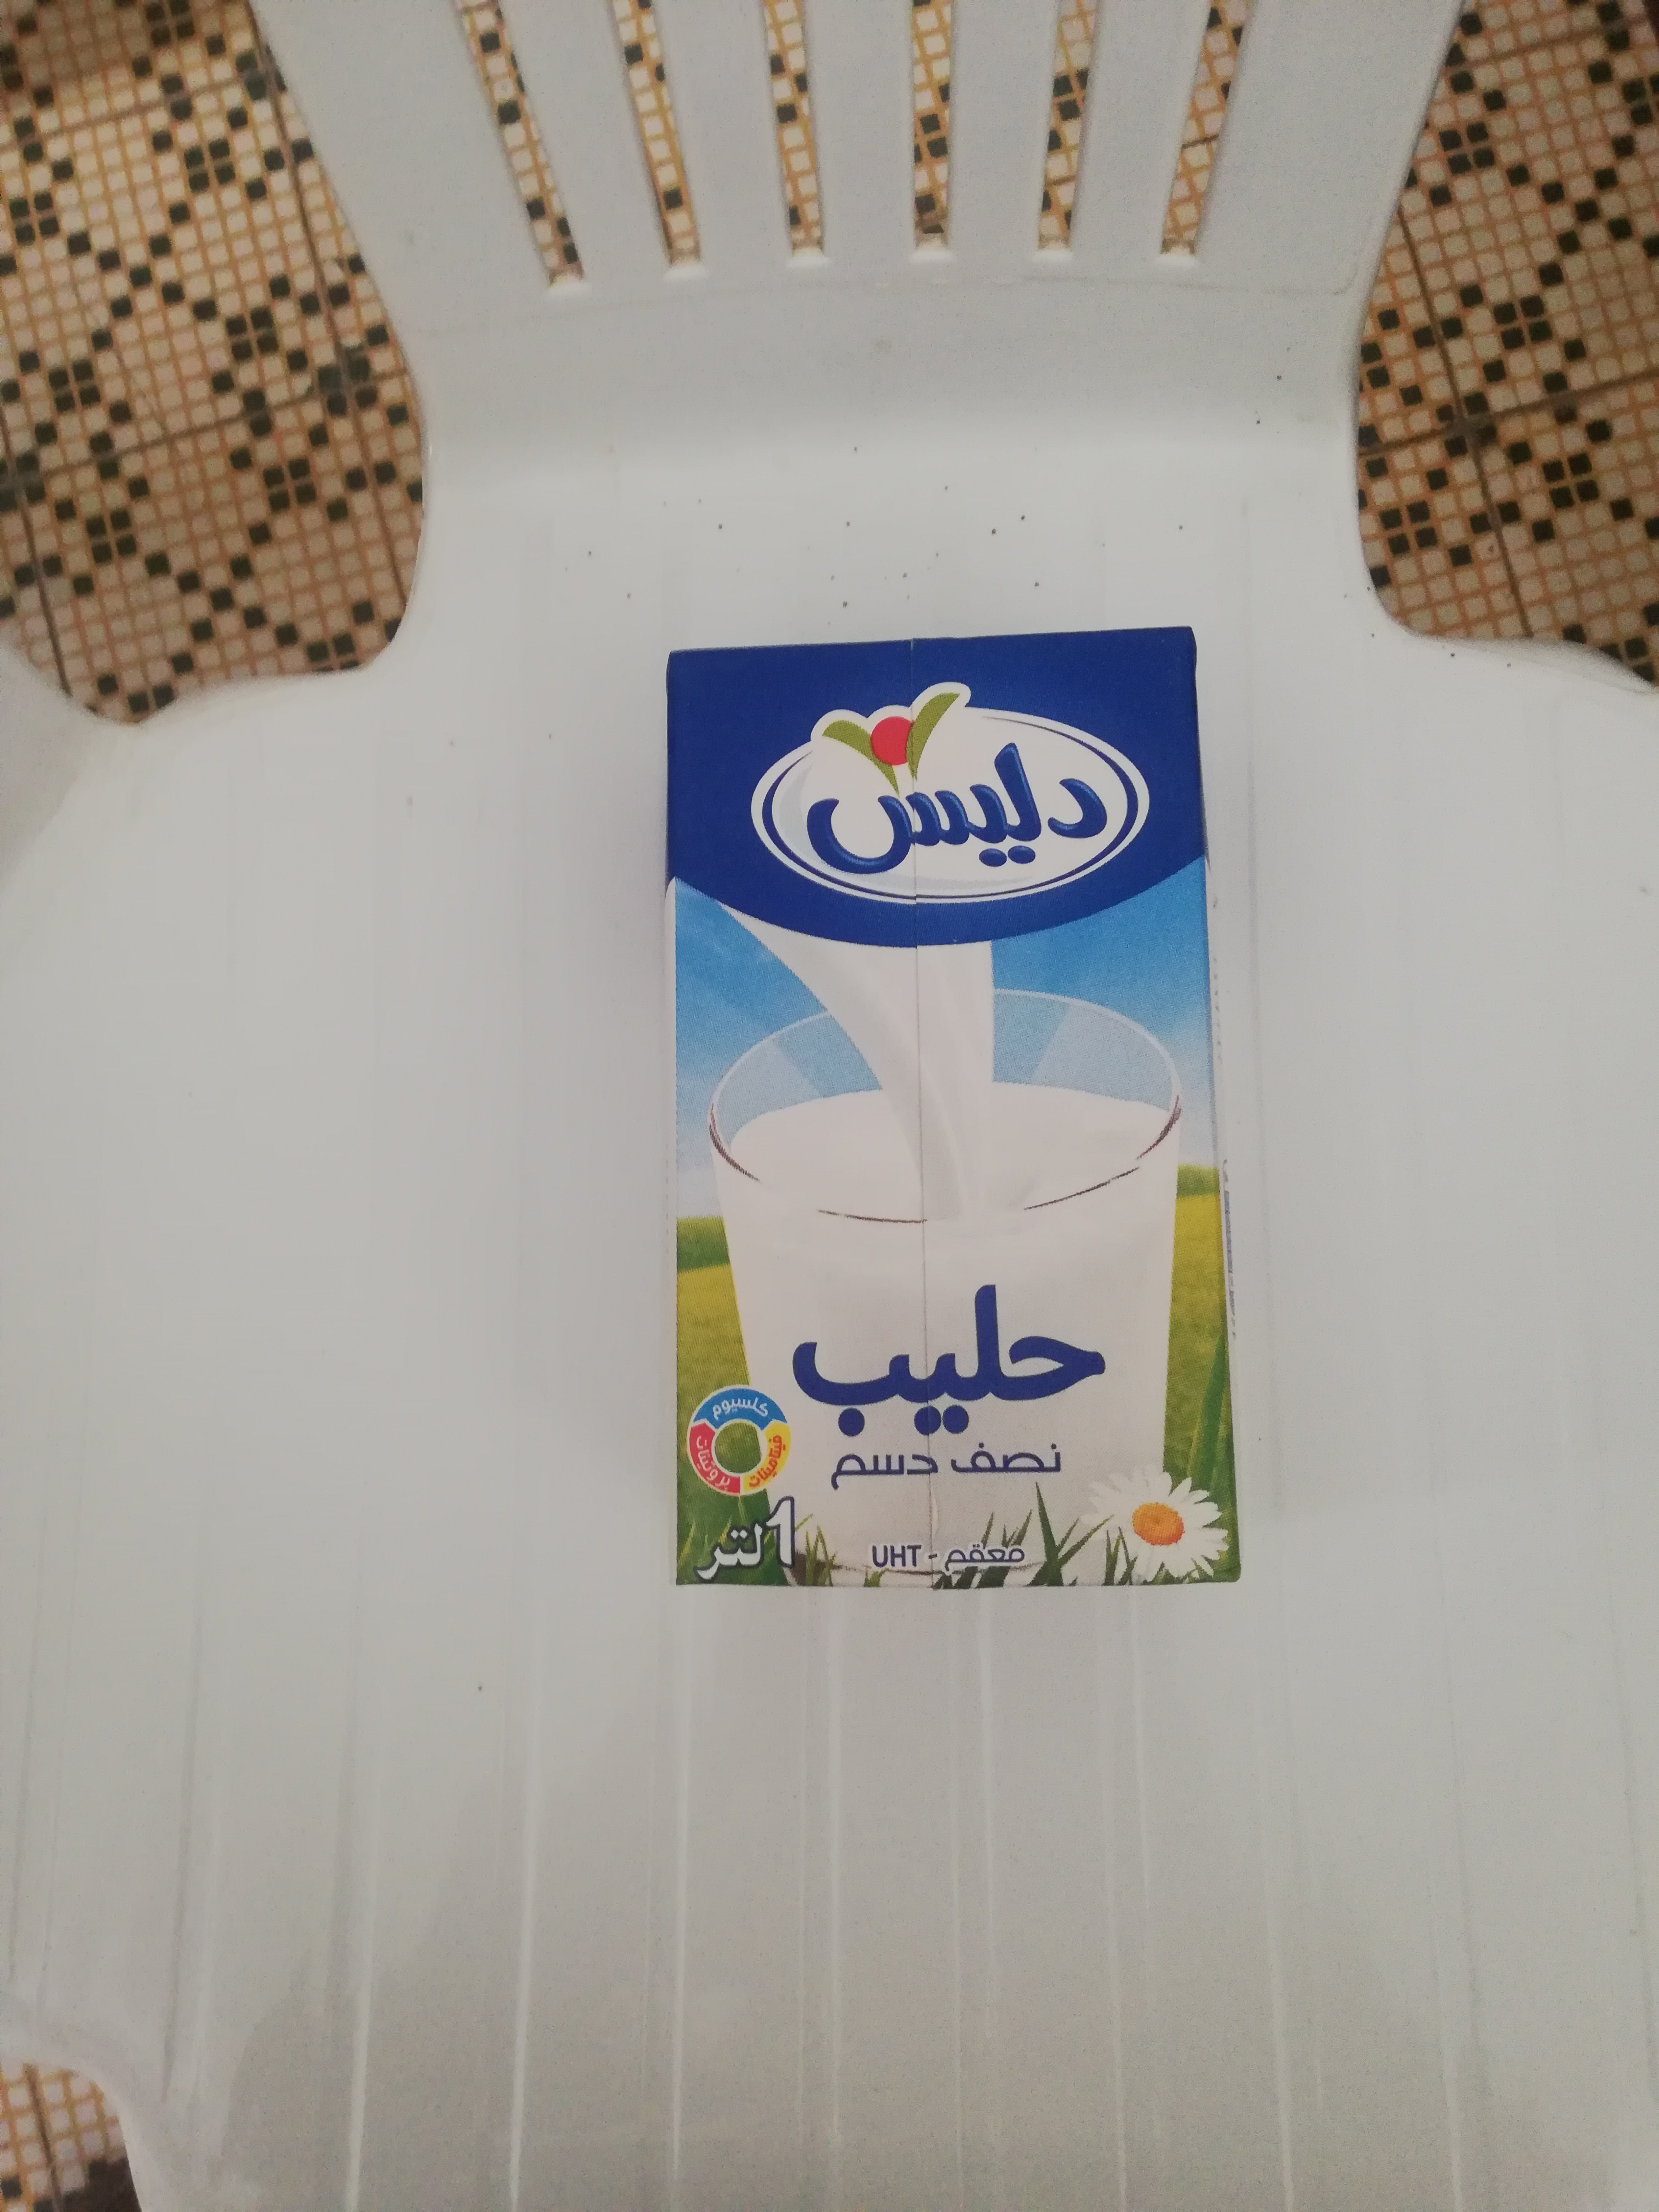Lait delice: (657, 625, 1244, 1581)
